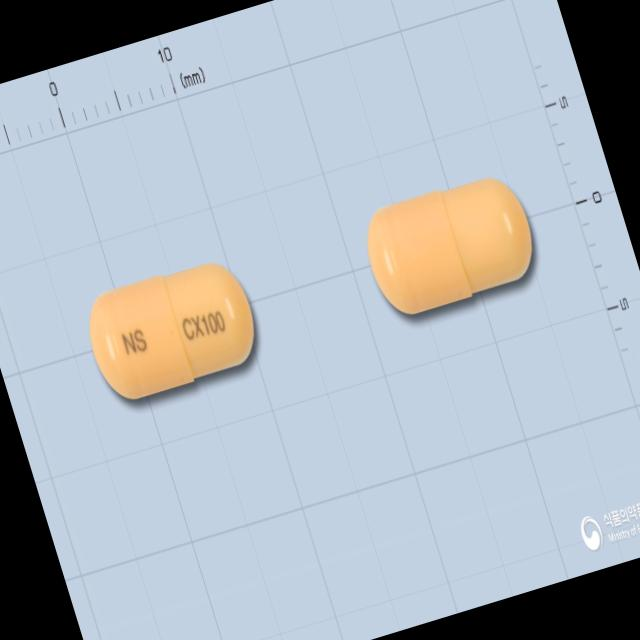Cefixime Cap- Nelson: (74, 245, 273, 416)
